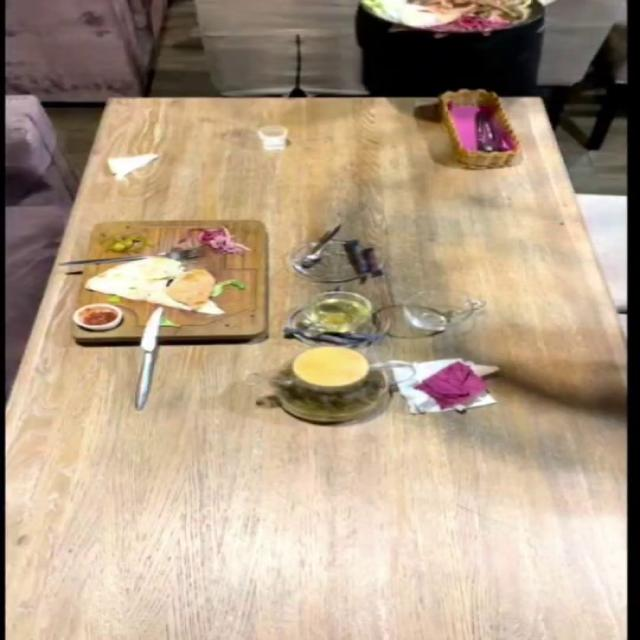tea: (269, 346, 388, 422)
